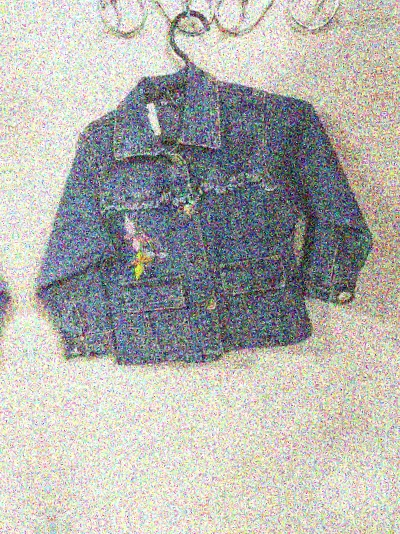Blazer: (5, 17, 383, 388), (0, 63, 23, 434)
